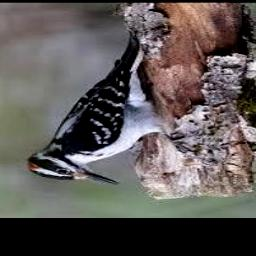Woodpecker: (28, 34, 164, 185)
